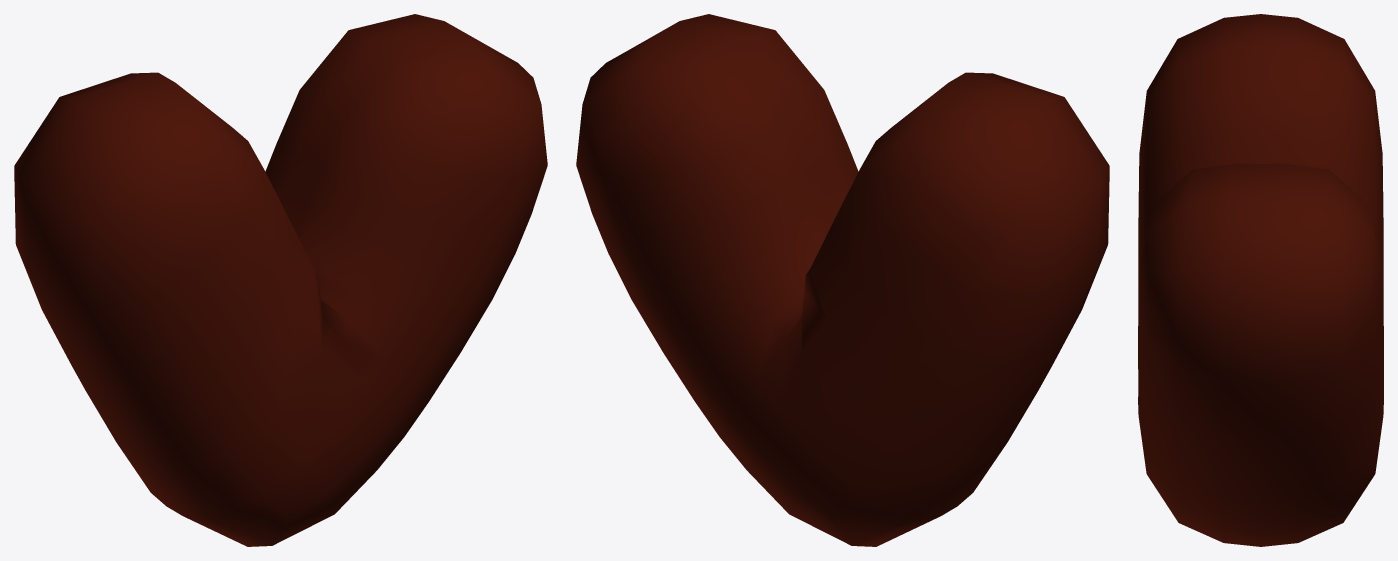
The picture shows the model from 3 angles, left to right: view 1: azimuth 30°, elevation 25°; view 2: azimuth 150°, elevation 25°; view 3: azimuth 270°, elevation 25°; orthographic projection. The views are drawn at different scales.
Parts seen in each view (by area): view 1: V_21; view 2: V_21; view 3: V_21.
Boxes of the visible parts, x1,y1,x2,y2 form: V_21: (14,14,547,546); V_21: (576,14,1109,546); V_21: (1138,14,1383,546).
Size of the model in its own units: 95.77 by 87.52 by 42.7.
